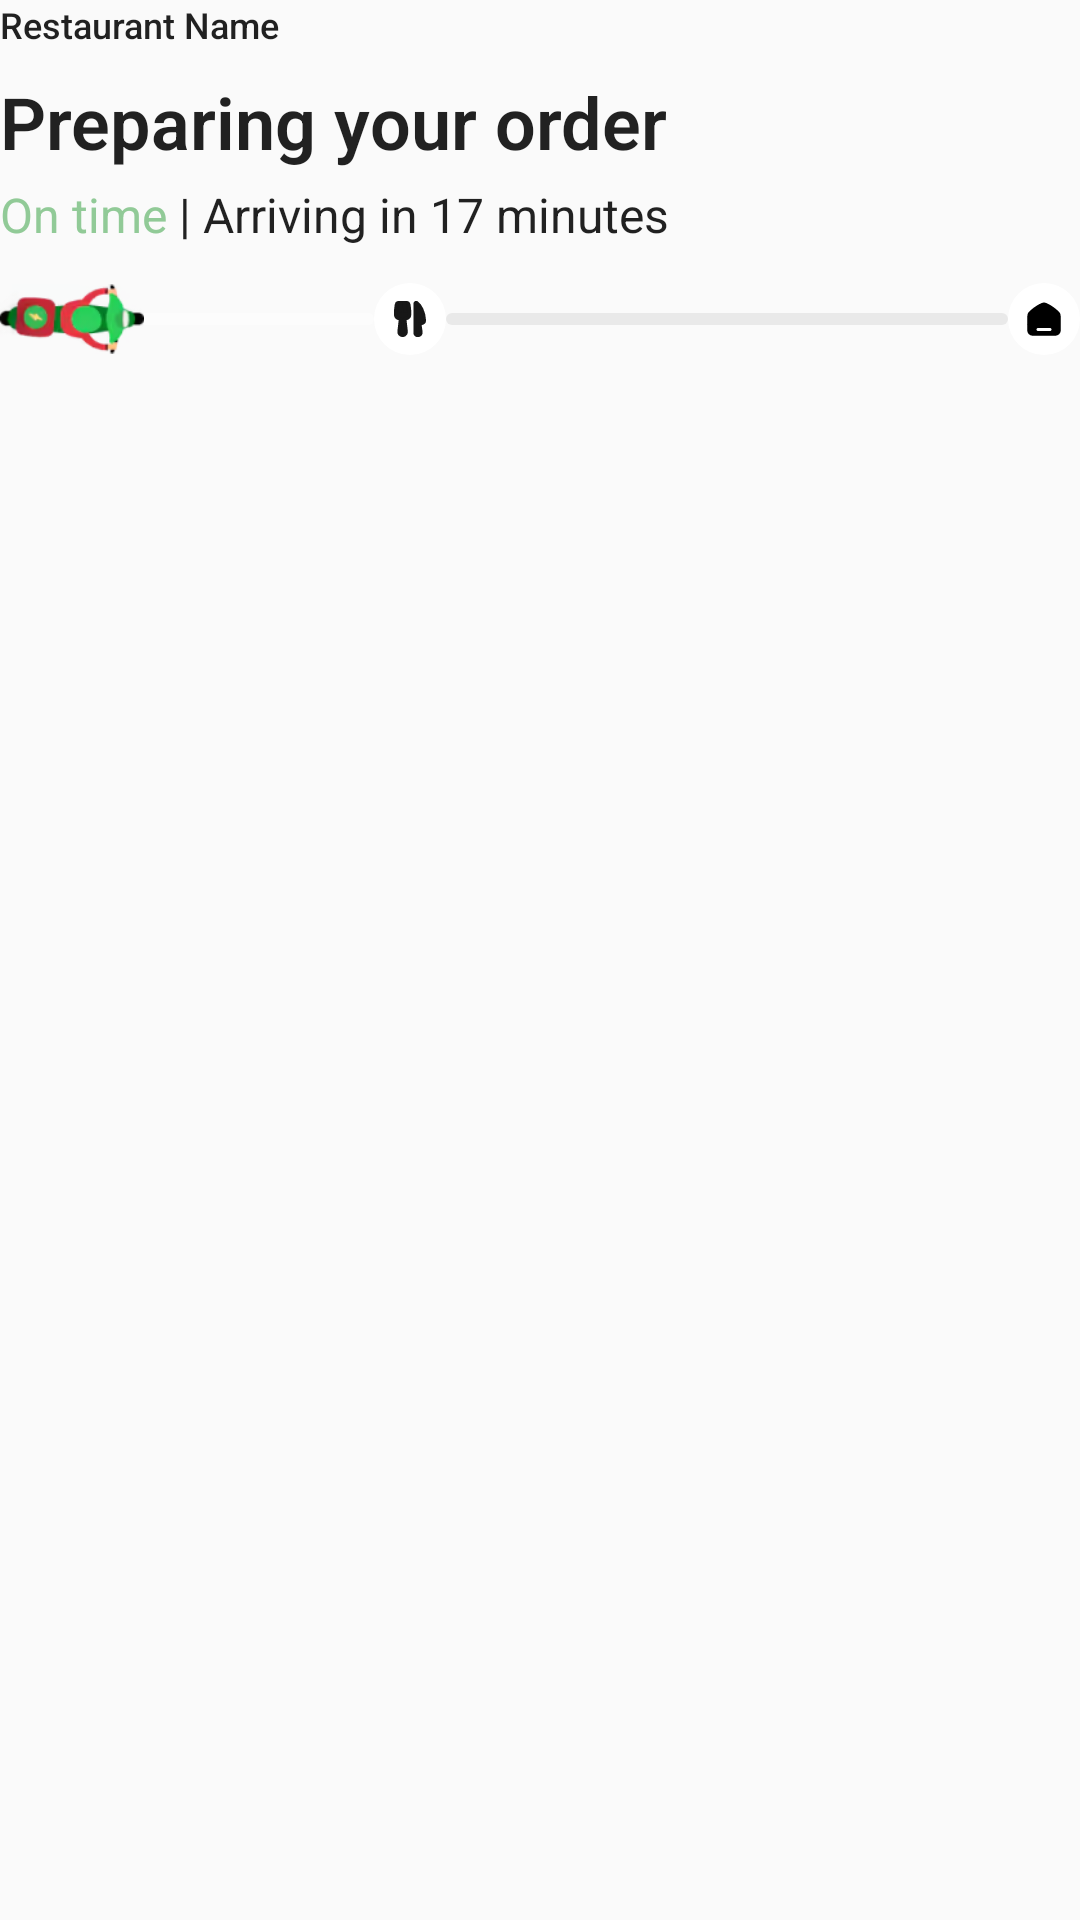

Locate icon controls on the screen. Image size 1080 x 1920, boxes as (x1, y1, x2, y2).
checkpoint home: (1027, 302, 1061, 336)
checkpoint restaurant: (394, 301, 426, 337)
rider ev: (0, 284, 144, 354)
